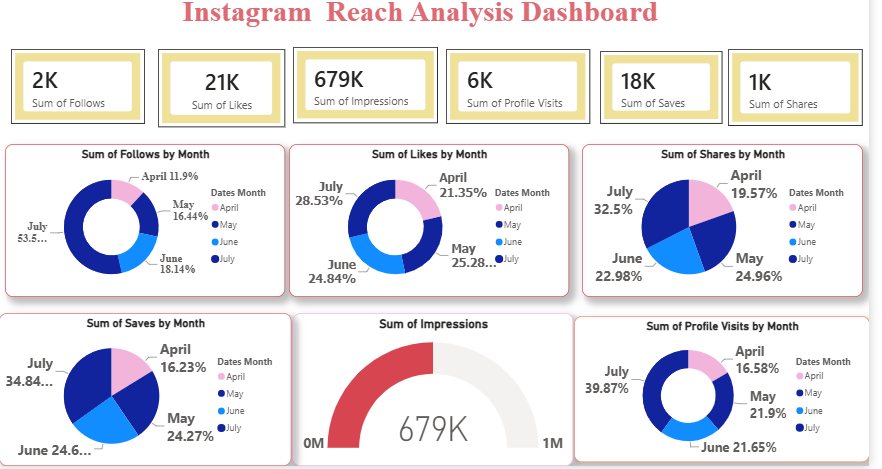

What the dashboard file says about the page in this screenshot:
{"tool":"powerbi","page":{"name":"Page 1","canvas":[1280,720],"ordinal":0},"visuals":[{"type":"cardVisual","fields":{"Data":["Sum(Instagram dataset.Likes)"]},"box":[233.3,106.7,186.7,115],"z":0},{"type":"cardVisual","fields":{"Data":["Sum(Instagram dataset.Impressions)"]},"box":[431.7,105,213.3,111.7],"z":1000},{"type":"cardVisual","fields":{"Data":["Sum(Instagram dataset.Saves)"]},"box":[883.3,110,180,106.7],"z":2000},{"type":"cardVisual","fields":{"Data":["Sum(Instagram dataset.Shares)"]},"box":[1071.7,106.7,198.3,113.3],"z":3000},{"type":"cardVisual","fields":{"Data":["Sum(Instagram dataset.Follows)"]},"box":[18.3,106.7,196.7,110],"z":4000},{"type":"cardVisual","fields":{"Data":["Sum(Instagram dataset.Profile Visits)"]},"box":[656.7,106.7,211.7,110],"z":5000},{"type":"donutChart","fields":{"Category":["Instagram dataset.Dates.Variation.Date Hierarchy.Year","Instagram dataset.Dates.Variation.Date Hierarchy.Month"],"Y":["Sum(Instagram dataset.Follows)"]},"box":[8.3,246.7,411.7,225],"z":6000},{"type":"donutChart","fields":{"Category":["Instagram dataset.Dates.Variation.Date Hierarchy.Year","Instagram dataset.Dates.Variation.Date Hierarchy.Month"],"Y":["Sum(Instagram dataset.Likes)"]},"box":[426.7,246.7,411.7,225],"z":7000},{"type":"pieChart","fields":{"Category":["Instagram dataset.Dates.Variation.Date Hierarchy.Year","Instagram dataset.Dates.Variation.Date Hierarchy.Month"],"Y":["Sum(Instagram dataset.Shares)"]},"box":[856.7,246.7,413.3,225],"z":8000},{"type":"pieChart","fields":{"Category":["Instagram dataset.Dates.Variation.Date Hierarchy.Month"],"Y":["Sum(Instagram dataset.Saves)"]},"box":[0,495,430,225],"z":9000},{"type":"gauge","fields":{"Y":["Sum(Instagram dataset.Impressions)"]},"box":[431.7,495,411.7,225],"z":10000},{"type":"donutChart","fields":{"Category":["Instagram dataset.Dates.Variation.Date Hierarchy.Month"],"Y":["Sum(Instagram dataset.Profile Visits)"]},"box":[845,500,435,215],"z":11000},{"type":"textbox","box":[253.3,21.7,733.3,63.3],"z":12000}]}

Visuals, with their boxes in screenshot pixels (x1, y1, x2, y2):
cardVisual - Sum(Instagram dataset.Likes): 152 46 281 125
cardVisual - Sum(Instagram dataset.Impressions): 289 45 436 122
cardVisual - Sum(Instagram dataset.Saves): 600 48 724 122
cardVisual - Sum(Instagram dataset.Shares): 730 46 867 124
cardVisual - Sum(Instagram dataset.Follows): 3 46 139 122
cardVisual - Sum(Instagram dataset.Profile Visits): 444 46 590 122
donutChart - Instagram dataset.Dates.Variation.Date Hierarchy.Year x Instagram dataset.Dates.Variation.Date Hierarchy.Month: 0 143 281 298
donutChart - Instagram dataset.Dates.Variation.Date Hierarchy.Year x Instagram dataset.Dates.Variation.Date Hierarchy.Month: 285 143 569 298
pieChart - Instagram dataset.Dates.Variation.Date Hierarchy.Year x Instagram dataset.Dates.Variation.Date Hierarchy.Month: 582 143 867 298
pieChart - Instagram dataset.Dates.Variation.Date Hierarchy.Month x Sum(Instagram dataset.Saves): 0 314 287 468
gauge - Sum(Instagram dataset.Impressions): 289 314 573 468
donutChart - Instagram dataset.Dates.Variation.Date Hierarchy.Month x Sum(Instagram dataset.Profile Visits): 574 317 874 466
textbox: 166 0 671 31
